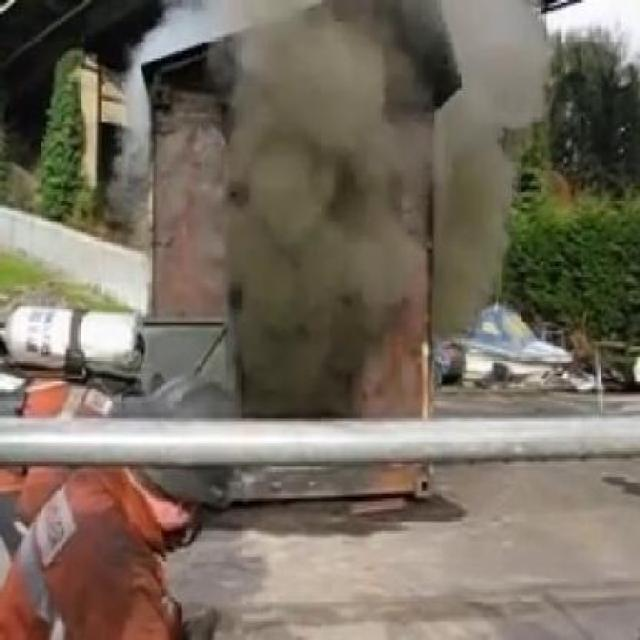smoke: (222, 3, 428, 400), (390, 2, 542, 310)
